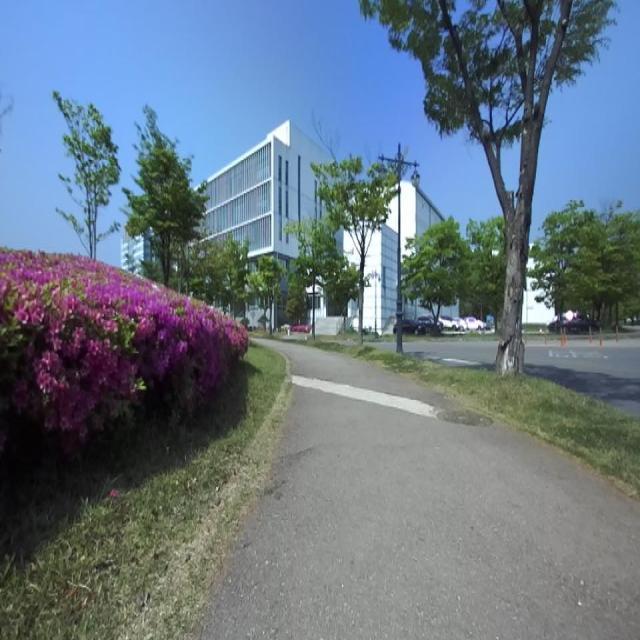sidewalk: (198, 340, 640, 639)
